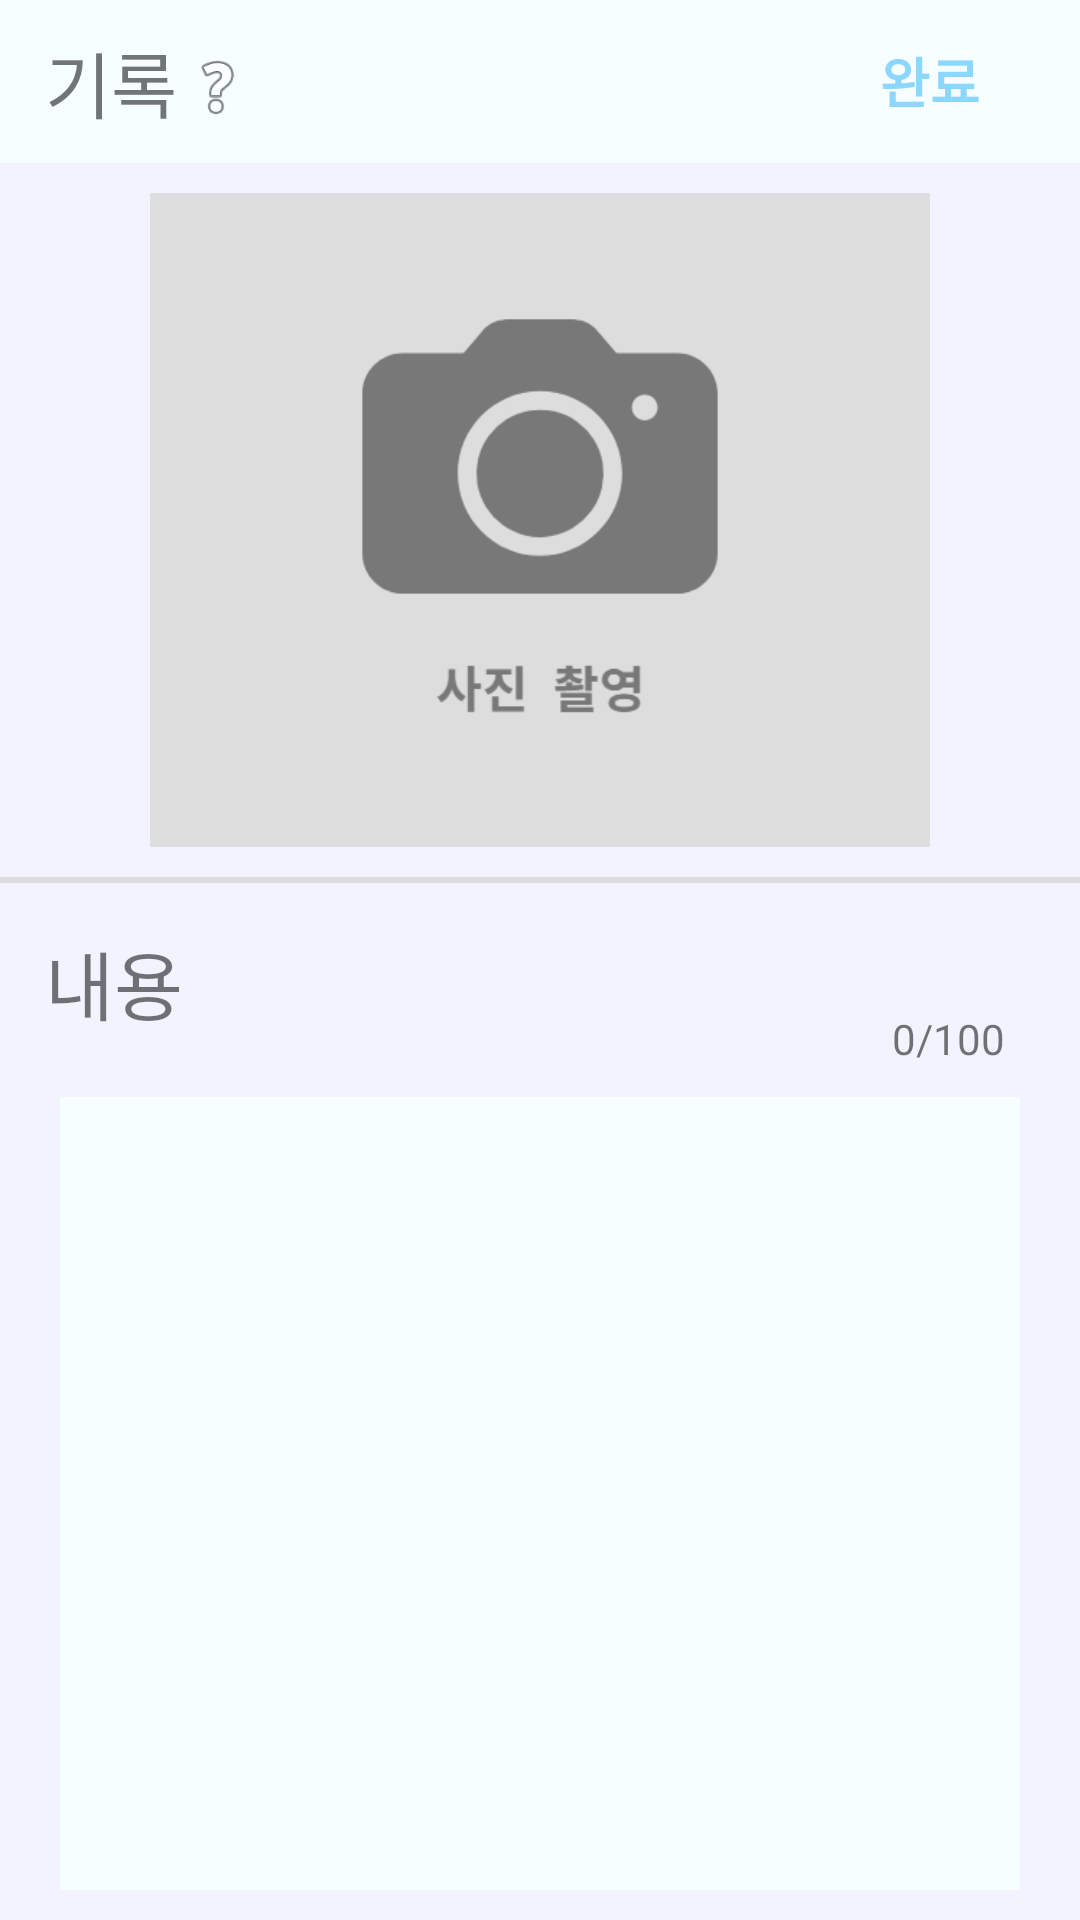

Where icons sit on this 1080 × 1920 app screen, as (x1, y1, x2, y2):
help: (201, 61, 234, 114)
